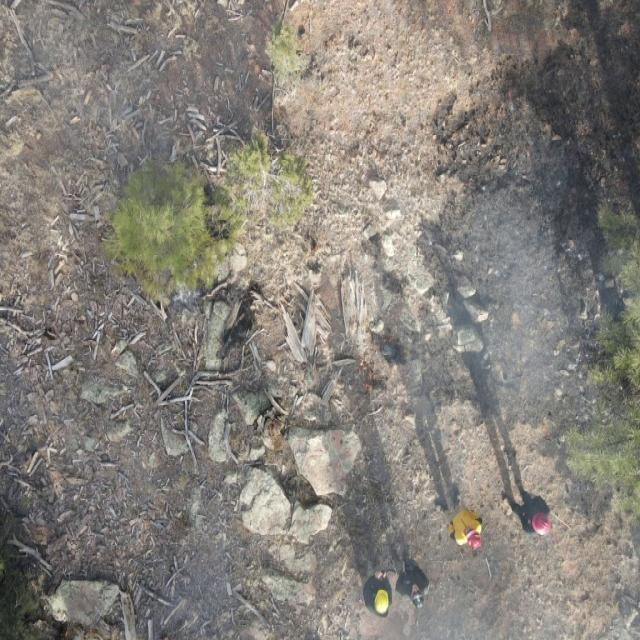fire: (356, 359, 380, 396), (382, 328, 409, 358), (347, 312, 360, 330)
smoke: (458, 181, 612, 421), (0, 0, 180, 170)
